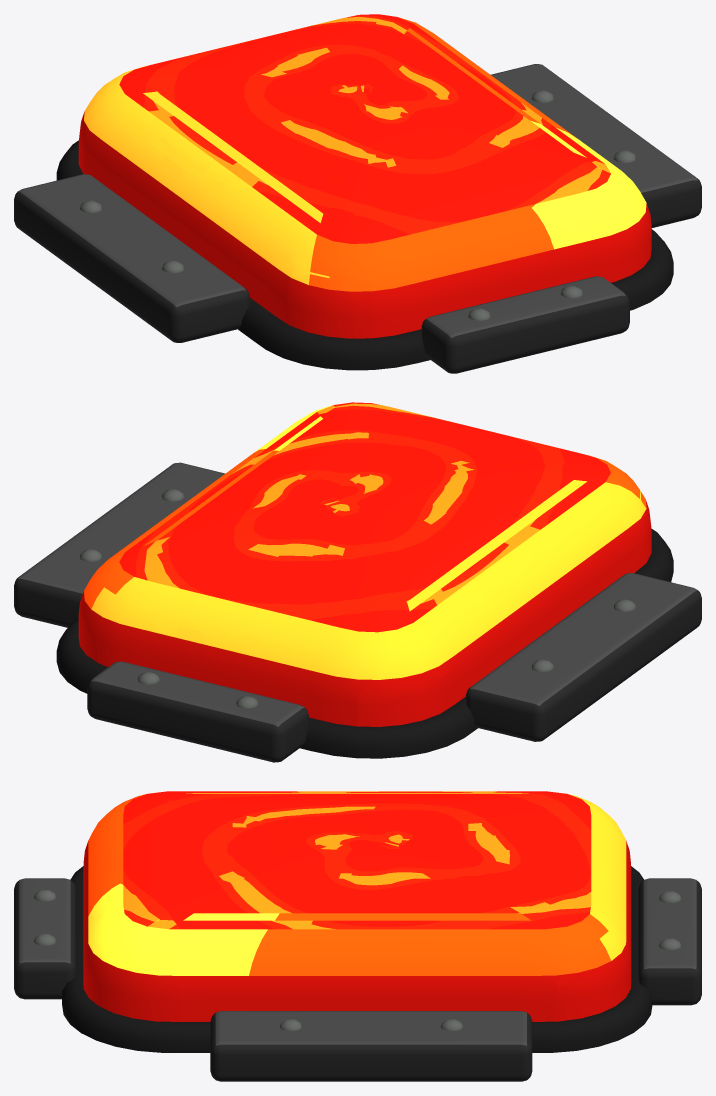
Rendered from redgem_panel_235.glb.
3 renders of one model, top to bottom at view 1: azimuth 30°, elevation 25°; view 2: azimuth 150°, elevation 25°; view 3: azimuth 270°, elevation 25°, orthographic. The views are drawn at different scales.
Parts seen in each view (by area): view 1: gem, clamp2, clamp1, clamp3, bezel; view 2: gem, clamp2, clamp0, clamp3, bezel; view 3: gem, clamp3, bezel, clamp0, clamp1.
Part boxes in pixels (left/top/right/bottom): gem: left=78, top=14, right=651, bottom=338; clamp2: left=14, top=174, right=249, bottom=342; clamp1: left=421, top=276, right=629, bottom=373; clamp3: left=490, top=64, right=701, bottom=227; bezel: left=56, top=140, right=673, bottom=370; gem: left=78, top=402, right=651, bottom=726; clamp2: left=466, top=573, right=701, bottom=741; clamp0: left=87, top=661, right=308, bottom=762; clamp3: left=14, top=462, right=225, bottom=627; bezel: left=56, top=529, right=673, bottom=758; gem: left=83, top=791, right=631, bottom=1021; clamp3: left=210, top=1011, right=532, bottom=1081; bezel: left=62, top=866, right=652, bottom=1052; clamp0: left=638, top=878, right=701, bottom=1005; clamp1: left=14, top=878, right=75, bottom=999.
Size of the model in its own units: 21.3 by 4.75 by 24.35.
